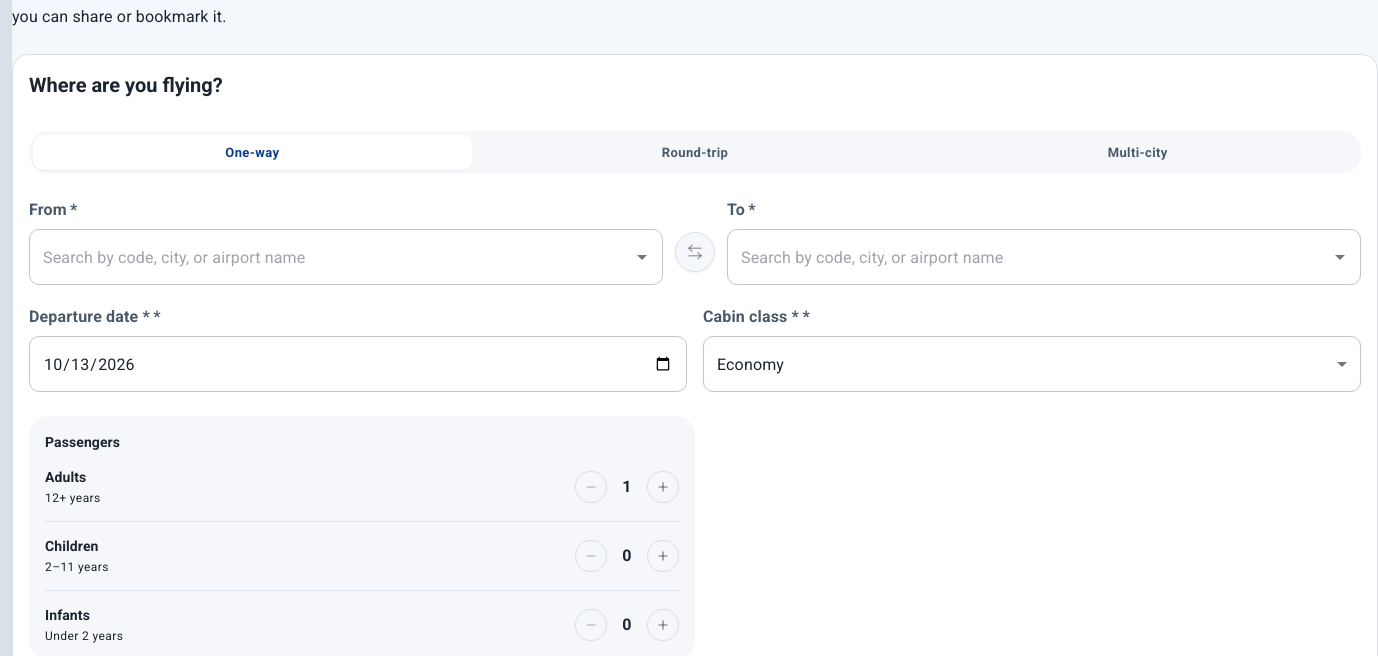
SearchFlightsPage › supports switching to round-trip and multi-city from the one-way default
Expected: the field labelled "Return date" is not shown
Step 1. Click the button "Round-trip" → coordinates (695, 152), box [476,135,914,170]
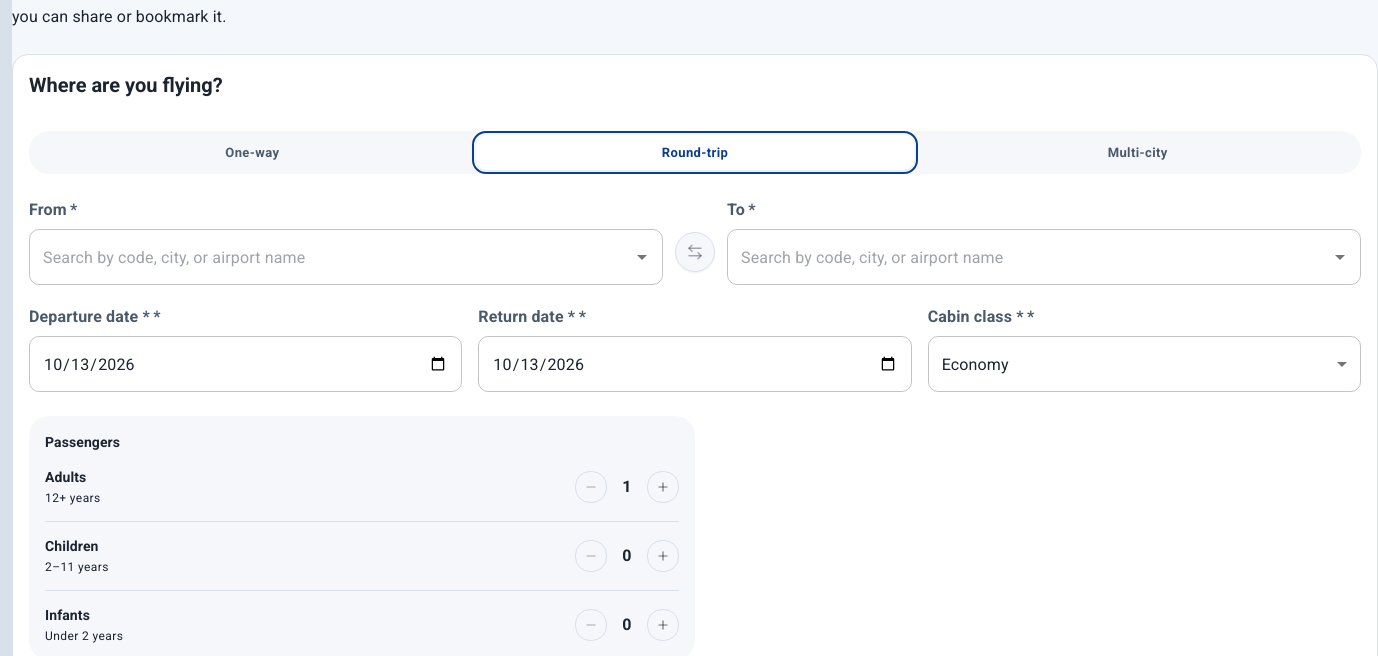
Expected: the date field labelled "Return date * *" is shown, [478,336,912,392]
Step 2. Click the button "Multi-city" → coordinates (1138, 152), box [918,135,1357,170]
(page scrolled)
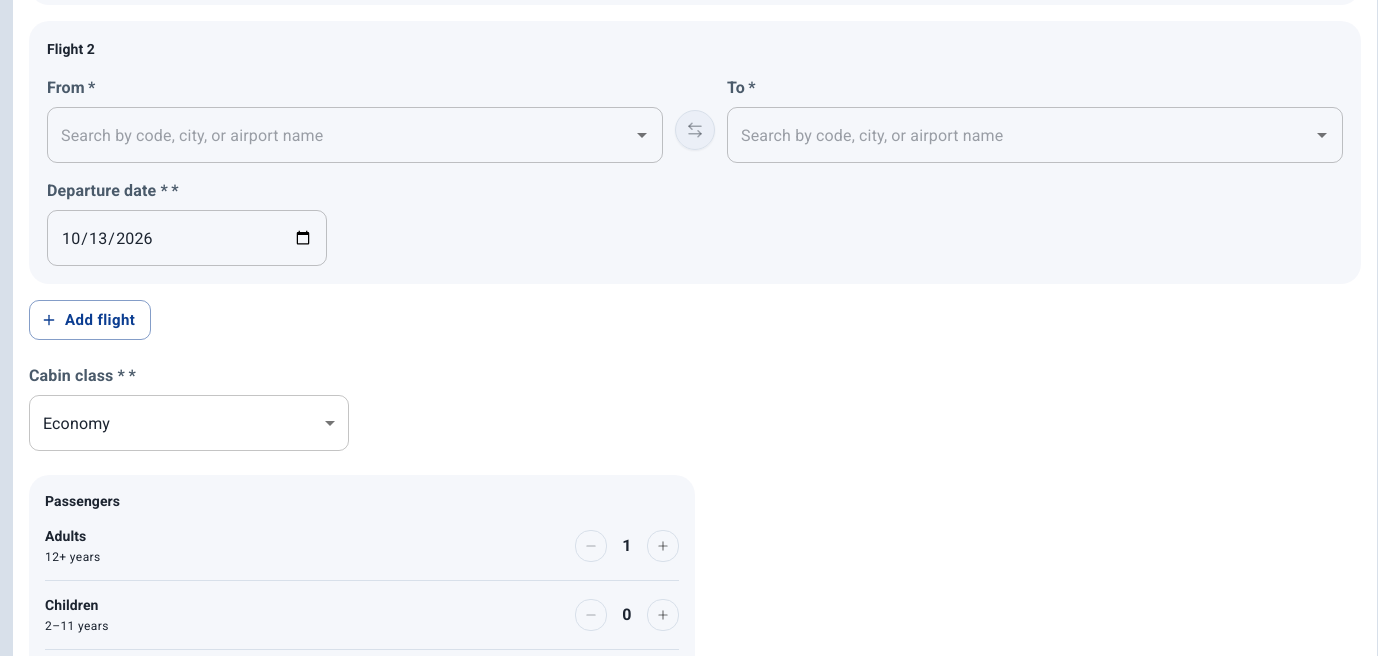
Expected: the heading "Flight 2" is shown, [47,39,95,60]
Step 3. Click the button "Add flight" → coordinates (90, 320), box [29,300,151,340]
(page scrolled)
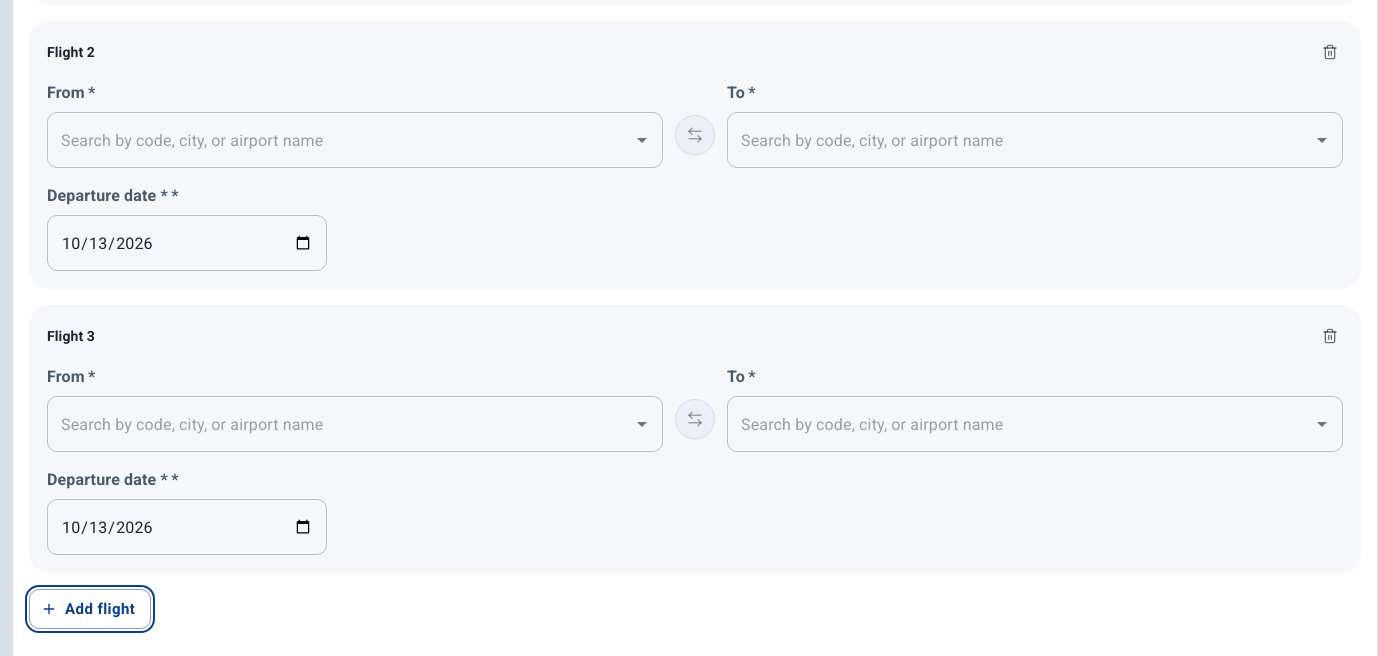
Expected: the heading "Flight 3" is shown, [47,326,95,347]
Step 4. Click the button named "Remove flight 3" → coordinates (1330, 336), box [1317,323,1343,349]
(page scrolled)
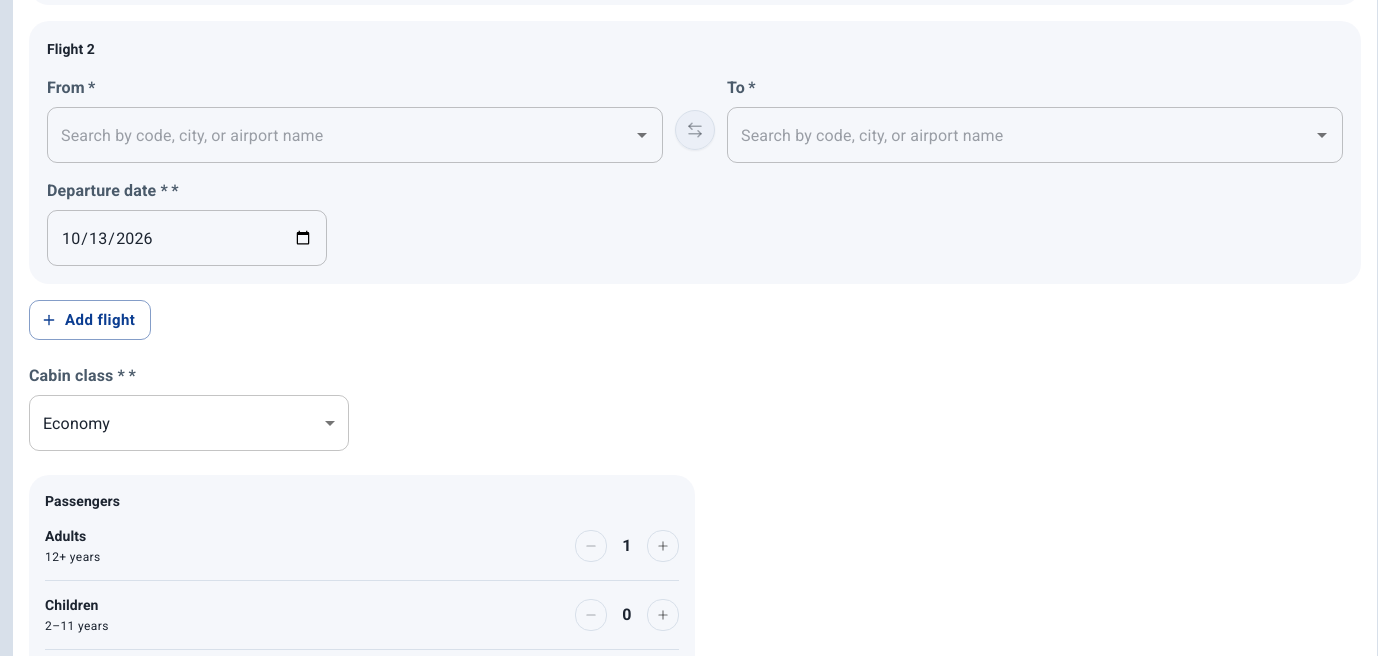
Expected: the heading "Flight 3" is gone
